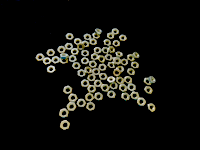nut: (60, 121, 71, 132), (63, 86, 74, 96), (59, 109, 70, 119), (86, 102, 96, 113), (147, 103, 157, 114), (67, 102, 77, 113), (77, 99, 87, 109), (94, 92, 104, 102), (107, 91, 117, 100), (85, 93, 95, 102), (137, 98, 146, 108), (47, 65, 56, 74), (72, 62, 81, 71), (81, 79, 90, 88), (99, 63, 108, 72), (128, 83, 137, 92), (144, 86, 153, 95), (69, 94, 78, 103), (52, 56, 61, 65), (81, 57, 90, 66), (144, 78, 153, 87), (88, 85, 97, 94), (94, 80, 103, 89), (101, 84, 110, 93), (77, 43, 86, 52), (116, 77, 125, 86), (131, 92, 140, 101), (46, 49, 56, 57), (121, 93, 131, 101), (87, 74, 97, 82), (68, 55, 78, 63), (36, 54, 45, 62), (91, 53, 100, 61), (84, 33, 93, 41), (99, 73, 108, 81), (127, 68, 136, 76), (121, 58, 129, 67), (113, 69, 122, 77), (43, 58, 52, 66), (71, 48, 80, 56), (149, 76, 157, 85), (77, 70, 86, 78), (120, 84, 128, 93), (89, 61, 98, 69), (127, 54, 136, 62), (120, 34, 128, 42), (102, 47, 110, 55), (66, 33, 74, 41), (58, 46, 66, 54), (110, 83, 118, 91), (74, 38, 82, 46), (112, 28, 120, 36), (104, 39, 112, 47), (113, 40, 121, 48), (85, 67, 93, 75), (108, 62, 116, 70), (81, 50, 90, 57), (94, 47, 102, 54), (65, 43, 73, 50), (82, 41, 90, 48), (90, 39, 98, 46), (109, 46, 116, 54), (105, 54, 113, 61), (98, 56, 106, 63), (133, 52, 140, 60), (132, 62, 140, 69), (114, 57, 121, 65), (117, 66, 125, 73), (107, 77, 116, 83), (60, 59, 69, 65), (93, 69, 100, 76), (107, 33, 115, 39), (95, 29, 103, 35), (93, 33, 101, 39), (116, 52, 124, 58), (60, 54, 69, 59)
